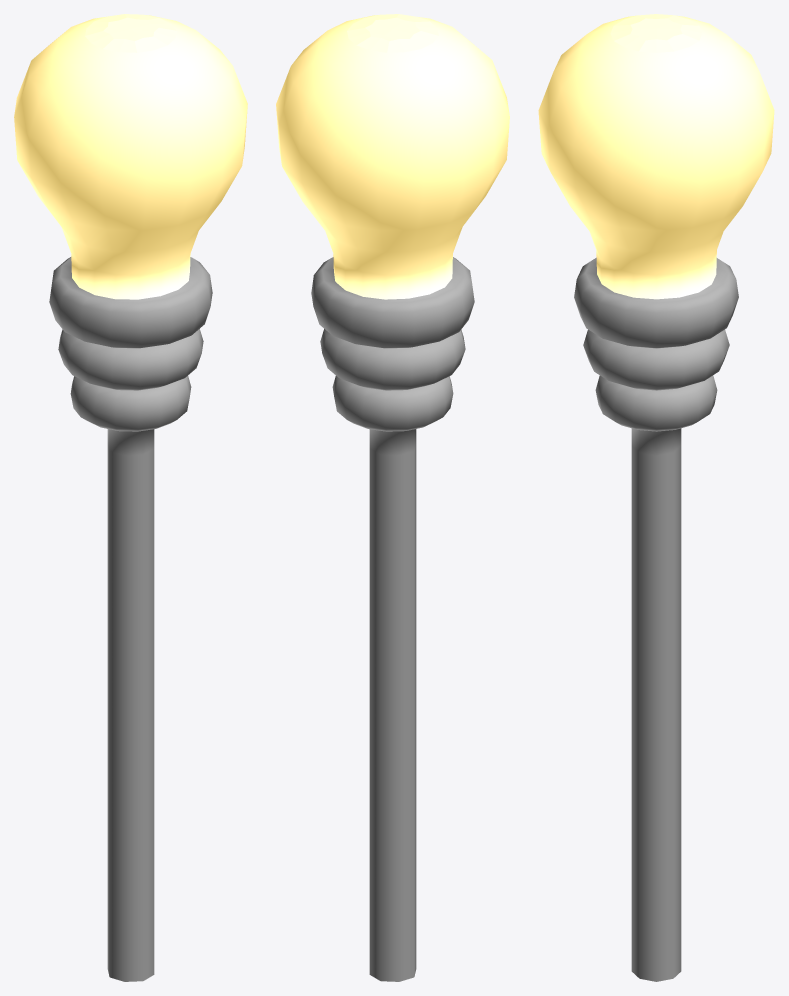
File: PH_TEST_Flag.fbx
3 renders of one model, left to right at view 1: azimuth 30°, elevation 25°; view 2: azimuth 150°, elevation 25°; view 3: azimuth 270°, elevation 25°, orthographic.
Parts seen in each view (by area): view 1: mesh_MiniGame_CTF_Flag; view 2: mesh_MiniGame_CTF_Flag; view 3: mesh_MiniGame_CTF_Flag.
Part boxes in pixels (box(x1,y1,x2,y2)): mesh_MiniGame_CTF_Flag: box(14, 14, 247, 981); mesh_MiniGame_CTF_Flag: box(276, 14, 509, 981); mesh_MiniGame_CTF_Flag: box(538, 14, 774, 981).
Size of the model in its own units: 0.8494 by 3.74 by 0.8494.
